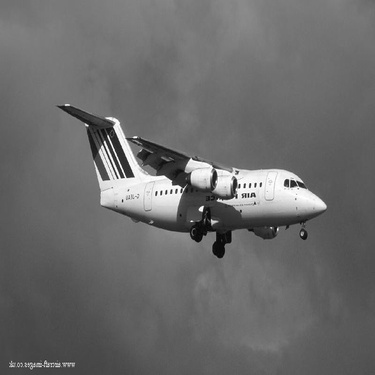airplane: (36, 92, 334, 260)
